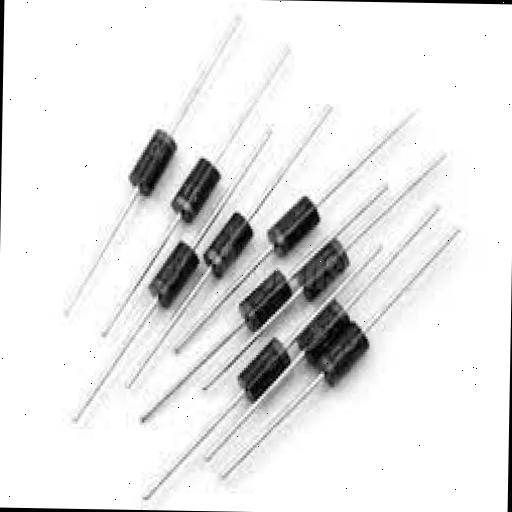DIODE: (58, 0, 468, 510), (202, 237, 314, 346), (226, 322, 322, 425), (133, 149, 235, 239), (107, 112, 189, 208), (284, 299, 368, 389), (258, 179, 337, 267), (292, 239, 370, 309), (130, 238, 196, 319), (195, 203, 248, 299)
